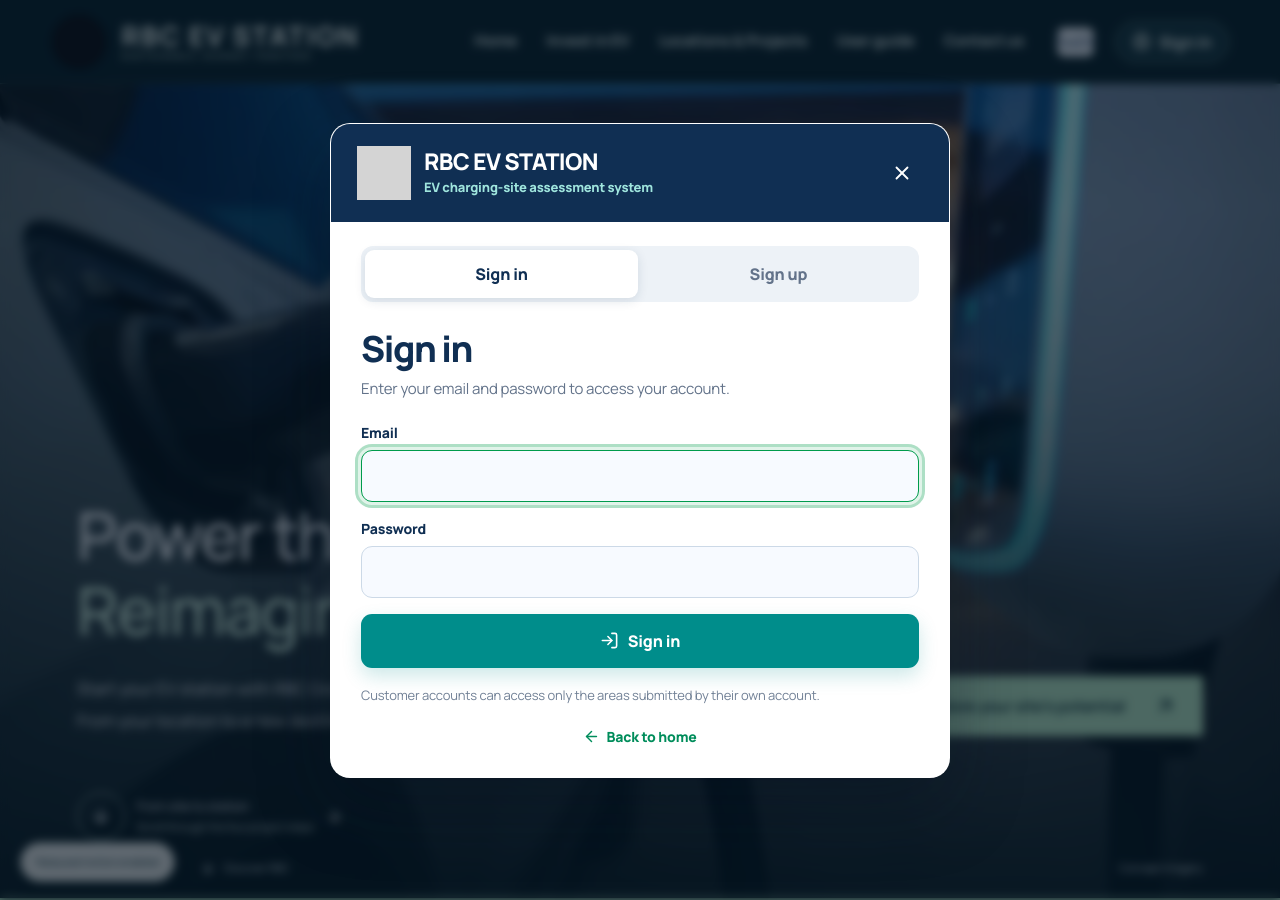
Test: App access boundaries › opens sign in as a closable dialog over the landing page
Check: the heading "Power the journey. Reimagine your space." is shown, box left=77, top=490, right=736, bottom=655
Check: the dialog is shown, box left=330, top=123, right=950, bottom=777
Click the button named "Close sign-in dialog": coordinates (902, 173) left=881, top=152, right=923, bottom=194
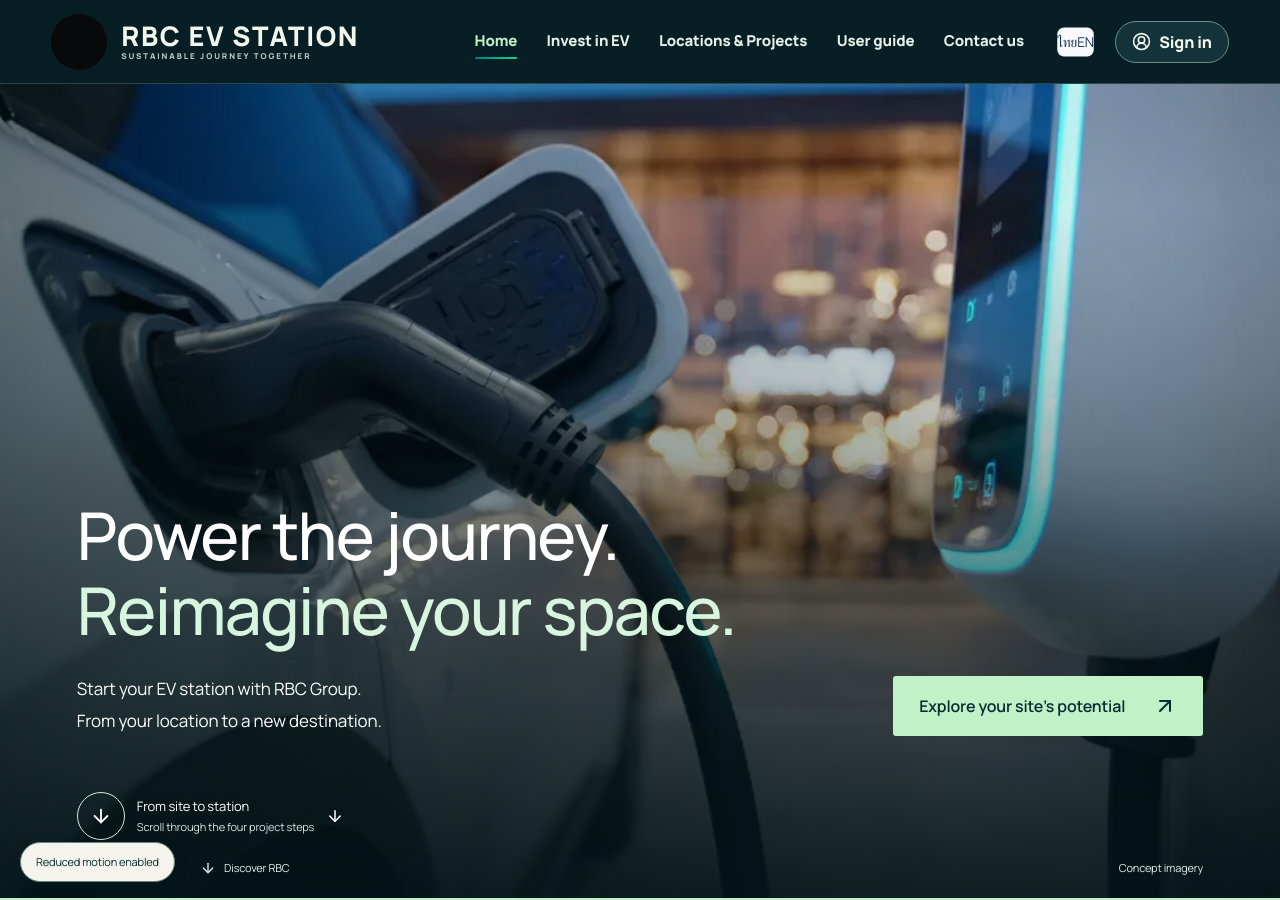
Check: the heading "Power the journey. Reimagine your space." is shown, box left=77, top=490, right=736, bottom=655
Check: the dialog is gone
